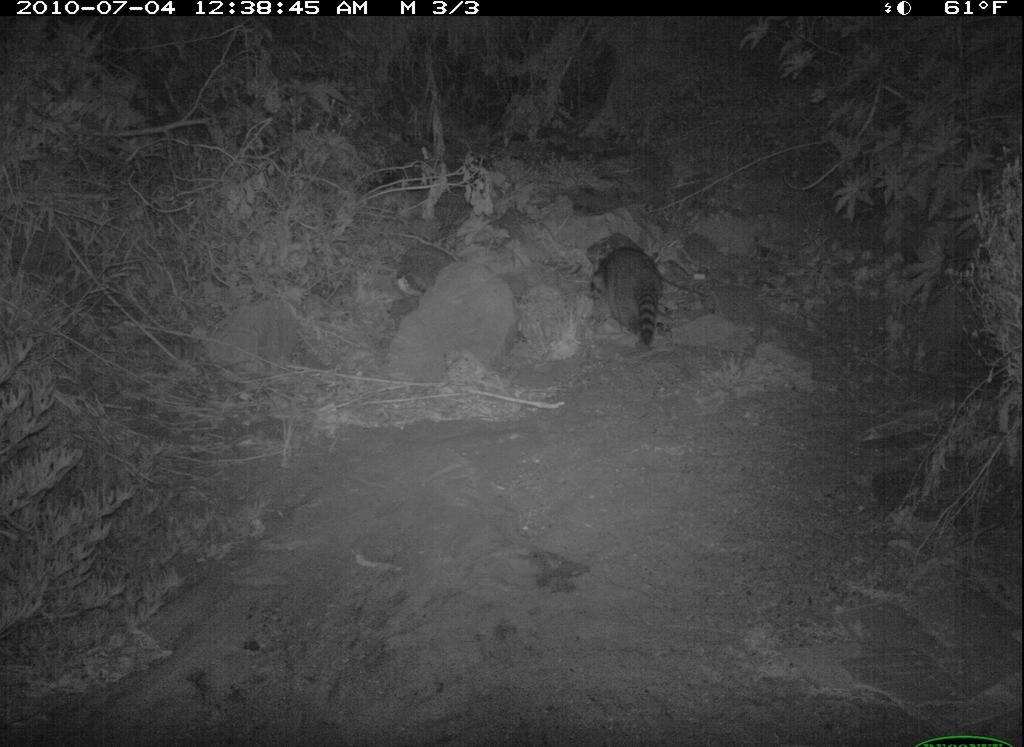raccoon: (570, 212, 689, 358)
